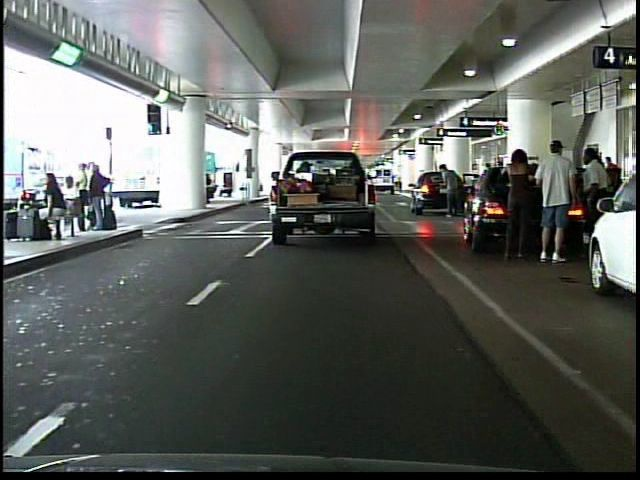person: (577, 141, 619, 276), (494, 137, 536, 269), (535, 137, 578, 264), (439, 159, 464, 226)
